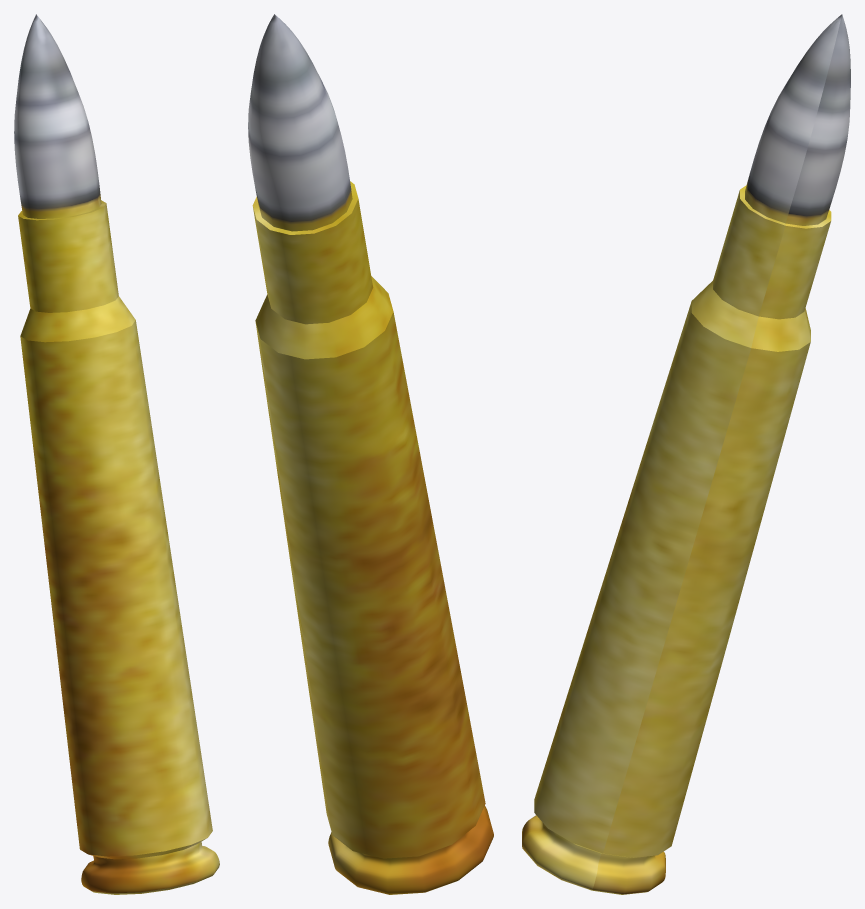
File: ItemBullet.FBX
3 views of the same model, side by side, from view 1: azimuth 30°, elevation 25°; view 2: azimuth 150°, elevation 25°; view 3: azimuth 270°, elevation 25° (orthographic). The views are drawn at different scales.
Visible parts, largest first — view 1: Line01; view 2: Line01; view 3: Line01.
Boxes of the visible parts, <box> form: Line01: <box>14,14,219,894</box>; Line01: <box>248,14,493,894</box>; Line01: <box>522,14,850,894</box>.
Bounding box in the file's own units: 1.11 × 6.95 × 2.4.
